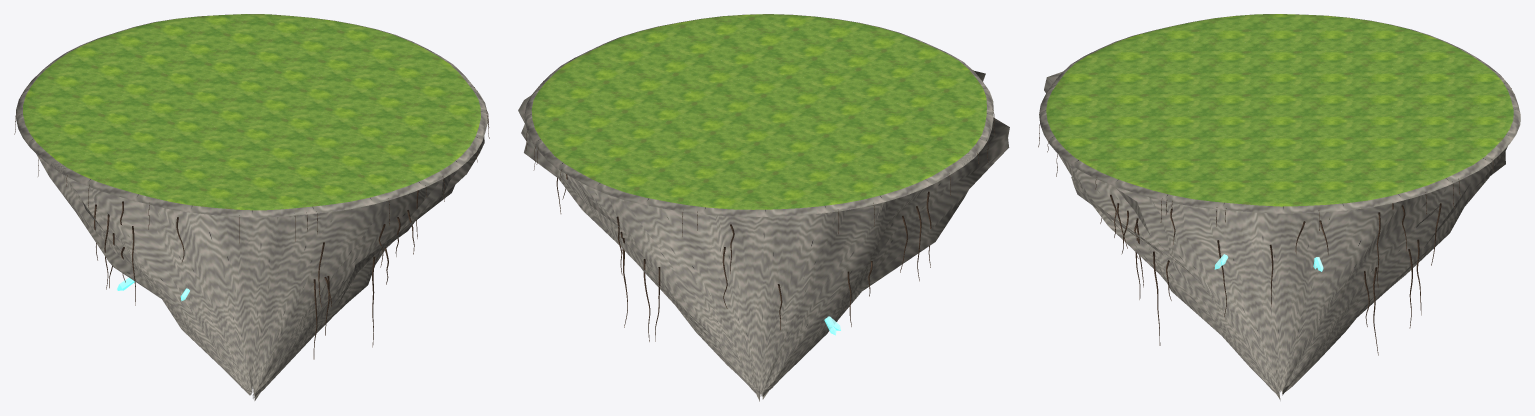
File: sky_platform_moon.glb
The picture shows the model from 3 angles, left to right: view 1: azimuth 30°, elevation 25°; view 2: azimuth 150°, elevation 25°; view 3: azimuth 270°, elevation 25°; orthographic projection.
Parts seen in each view (by area): view 1: IslandTop-col, IslandRock, IslandRoots; view 2: IslandTop-col, IslandRock, IslandRoots; view 3: IslandTop-col, IslandRock, IslandRoots.
Boxes of the visible parts, x1,y1,x2,y2 form: IslandTop-col: (16,14,487,217); IslandRock: (36,136,484,400); IslandRoots: (14,87,489,359); IslandTop-col: (524,14,993,216); IslandRock: (518,71,1009,401); IslandRoots: (526,70,995,341); IslandTop-col: (1039,14,1520,213); IslandRock: (1044,71,1507,400); IslandRoots: (1038,79,1514,355).
Bounding box in the file's own units: 78.62 × 52.56 × 78.81.
4 materials, 3 textured.
